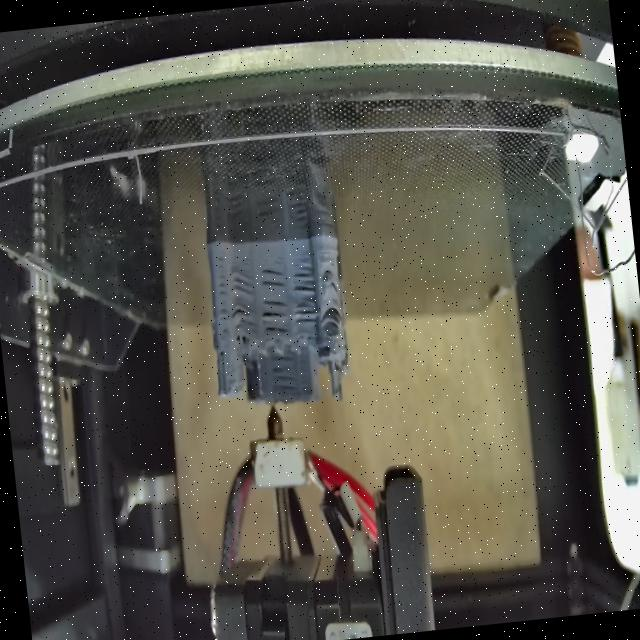cracks: (213, 254, 232, 328), (268, 356, 298, 400), (262, 296, 292, 337), (290, 261, 316, 295), (229, 302, 258, 330), (260, 260, 287, 290), (292, 296, 320, 324), (230, 267, 254, 296), (326, 306, 344, 331), (218, 346, 228, 364), (330, 276, 340, 293)
